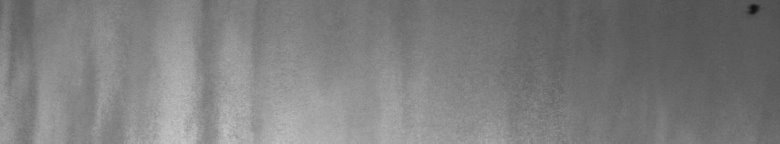fi: (744, 4, 764, 20)
